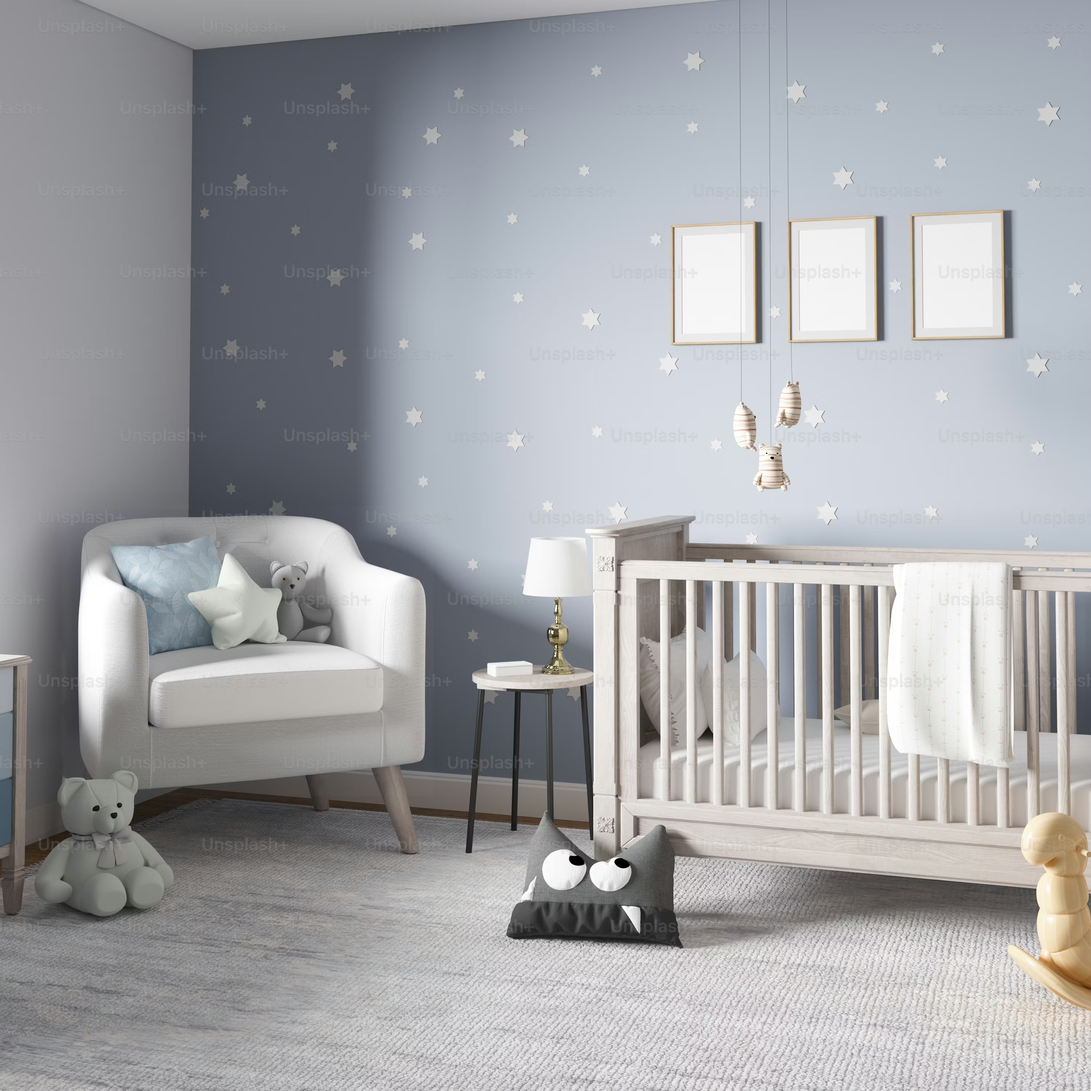crib: (593, 513, 1091, 898)
